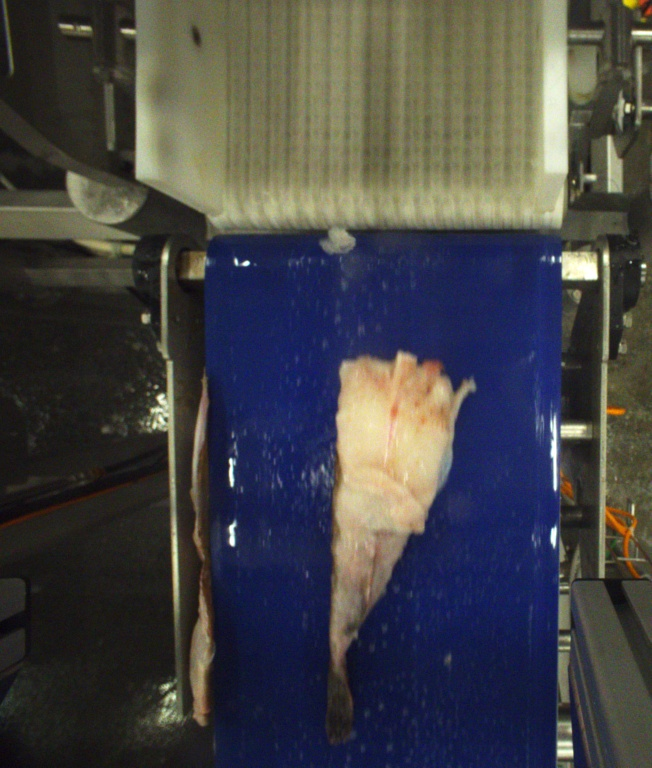ANF: (327, 351, 473, 743)
